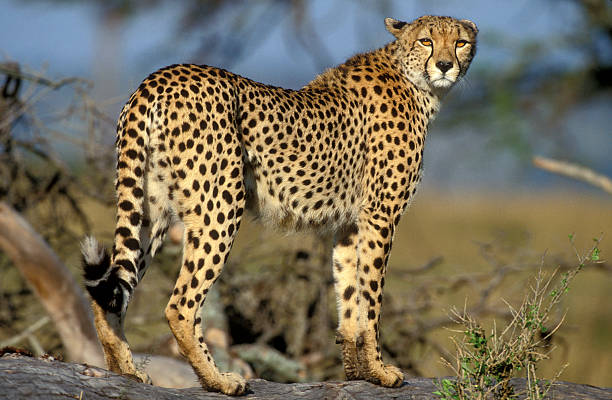cheetah: (378, 8, 488, 104)
